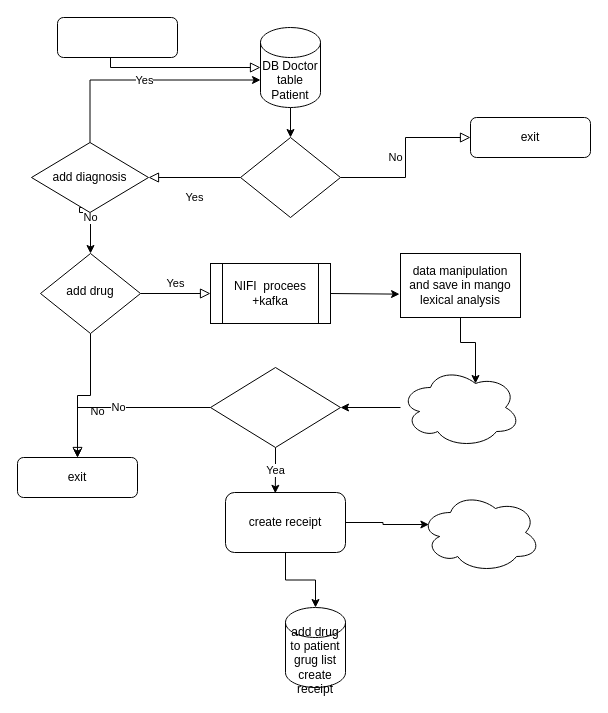
Image size: 608x713. Some labels were removed from this diagram. Here are the shapes that lost their labels. From the top down, the box of each, then its label:
(56, 16, 178, 58): Find the Patient history according TZ
(240, 136, 340, 218): Found
(210, 366, 340, 448): Create Receipt?'
(400, 366, 520, 448): mango
(420, 492, 540, 572): HDFS HIVE
